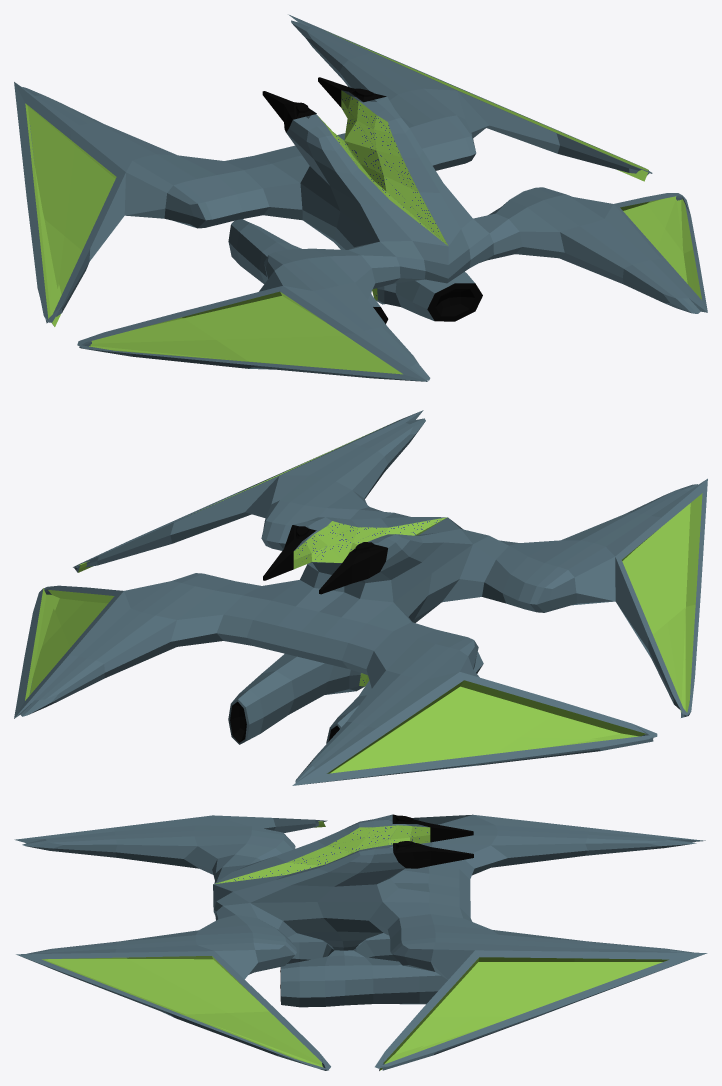
Rendered from Starship_drone1.fbx.
The picture shows the model from 3 angles, top to bottom: view 1: azimuth 30°, elevation 25°; view 2: azimuth 150°, elevation 25°; view 3: azimuth 270°, elevation 25°; orthographic projection. The views are drawn at different scales.
Visible parts, largest first — view 1: Cube; view 2: Cube; view 3: Cube.
Part boxes in pixels (x1,y1,x2,y2): Cube: [14, 14, 707, 381]; Cube: [14, 410, 707, 785]; Cube: [14, 814, 707, 1070].
Bounding box in the file's own units: 1363 × 396 × 1610.
Materials: 1 (1 with a texture image).
